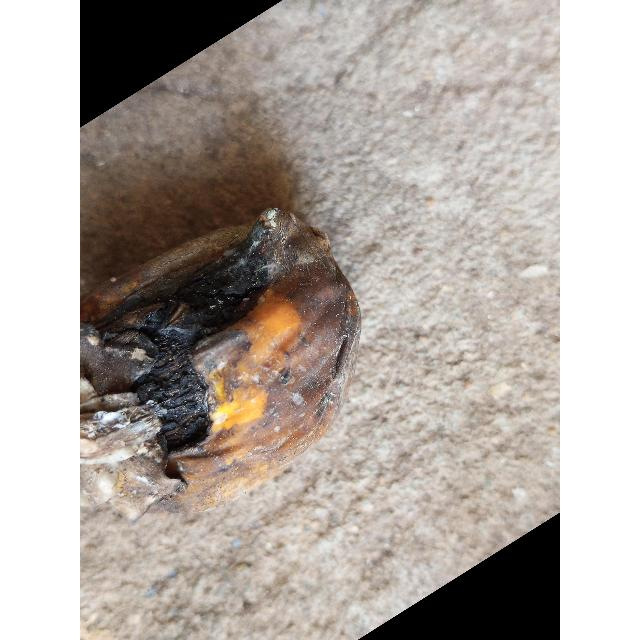damaged: (80, 209, 360, 519)
